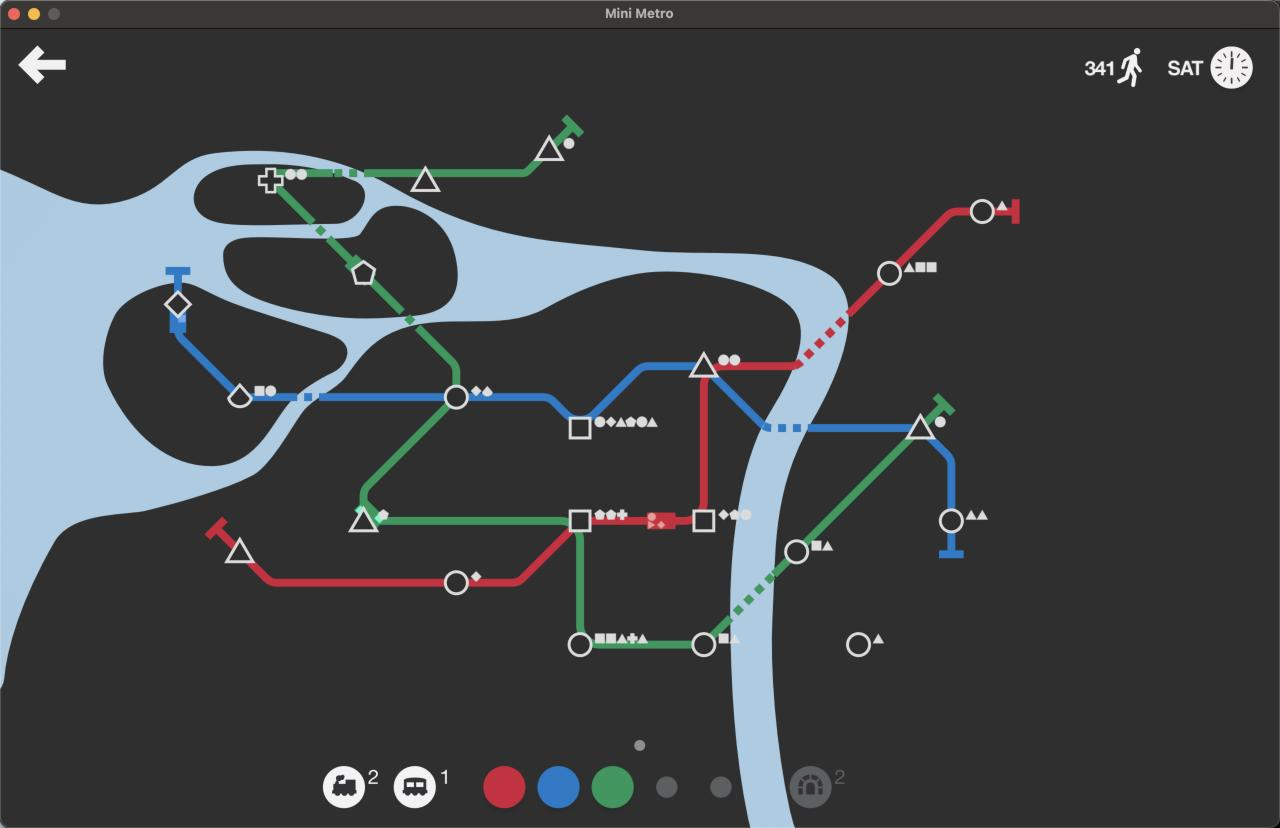CIRCLE: (443, 569, 470, 596), (876, 260, 902, 287), (783, 538, 809, 565), (938, 507, 964, 534), (691, 631, 717, 658), (567, 631, 593, 658), (846, 631, 872, 658), (444, 384, 470, 410), (970, 198, 995, 225), (934, 416, 946, 428)
CROSS: (257, 167, 283, 194)
GEM: (164, 290, 193, 320)
PENTAGON: (350, 259, 376, 286)
SQUARE: (568, 416, 592, 441), (568, 509, 592, 533), (693, 509, 716, 533)
TRIANGLE: (347, 504, 381, 533), (533, 134, 565, 163), (905, 412, 936, 441), (225, 536, 255, 565), (410, 165, 441, 193), (689, 351, 719, 379)
WEDGE: (226, 382, 253, 408)
